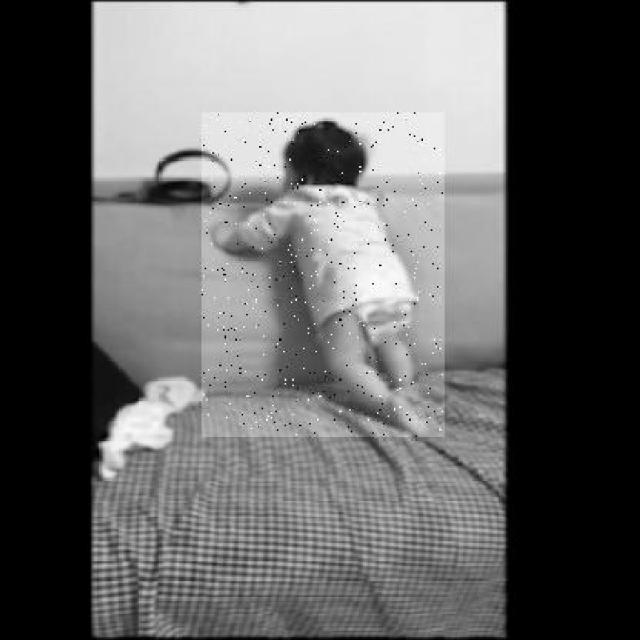child: (201, 112, 444, 436)
